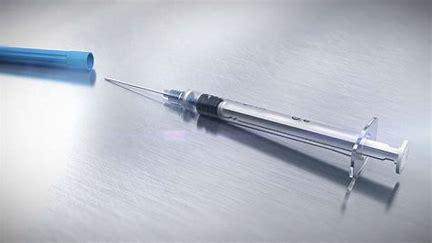Syringe: (104, 71, 415, 194)
